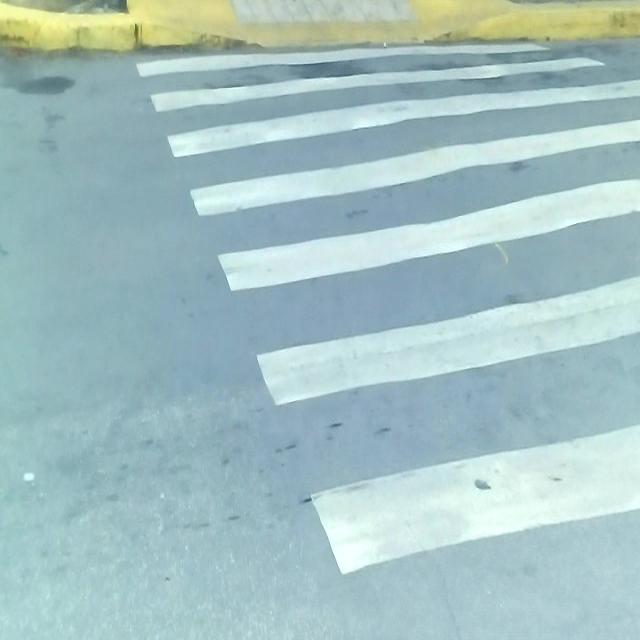crosswalk: (127, 37, 640, 640)
